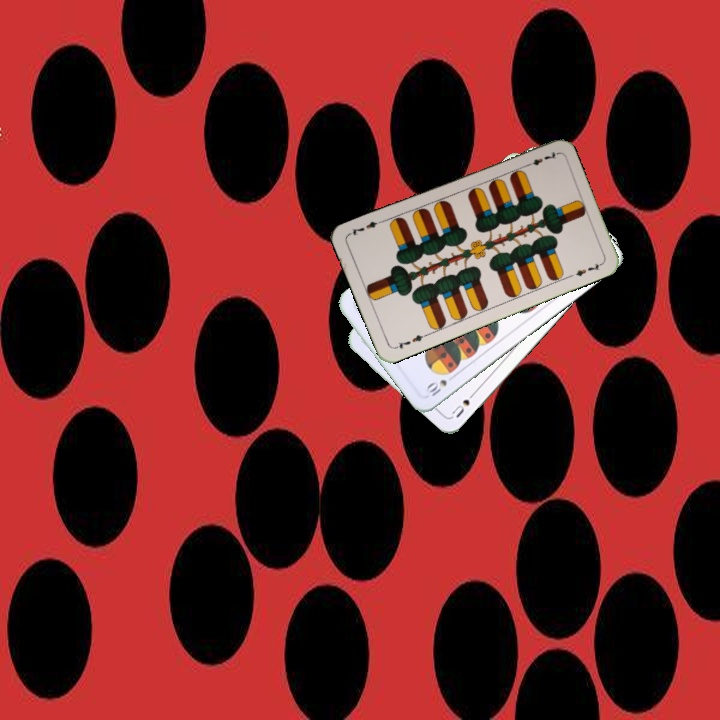E7: (520, 147, 560, 170), (391, 330, 430, 352)
S10: (422, 370, 458, 399)
SU: (447, 386, 479, 420)
